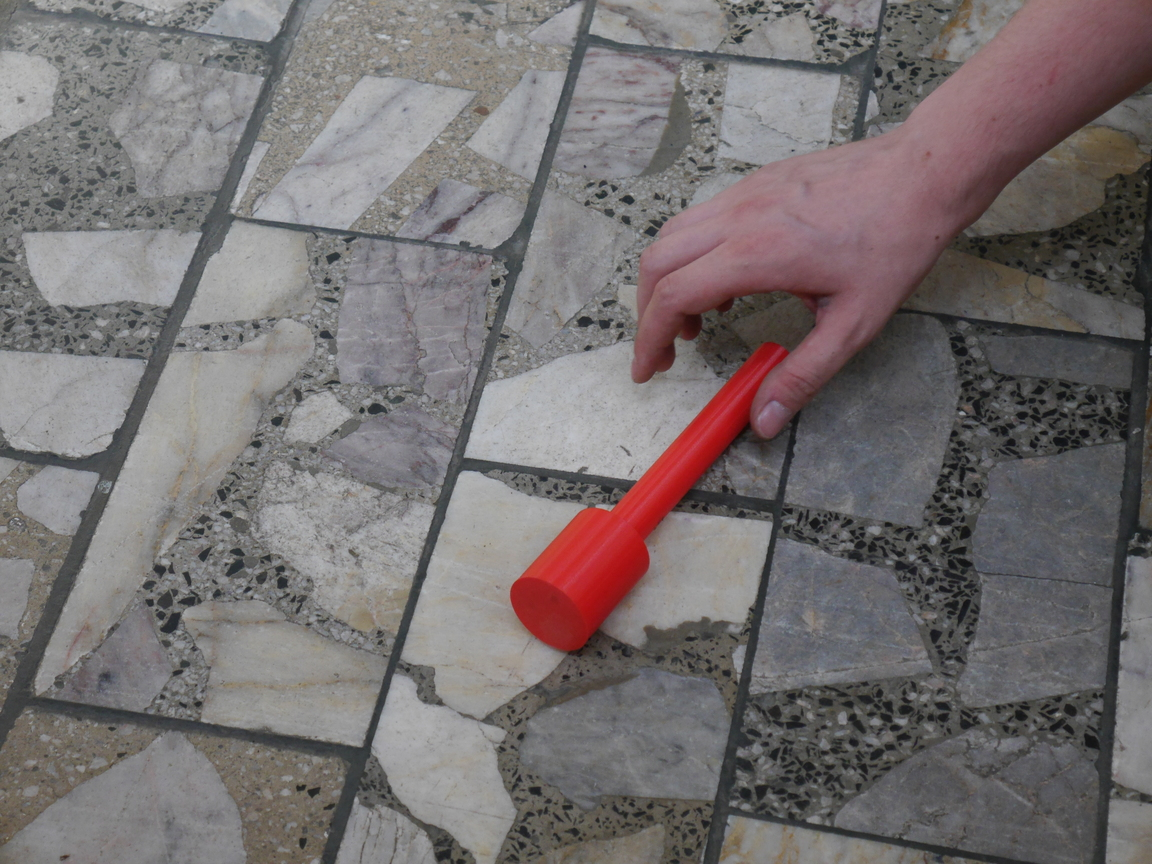cargo_g: (507, 344, 789, 655)
